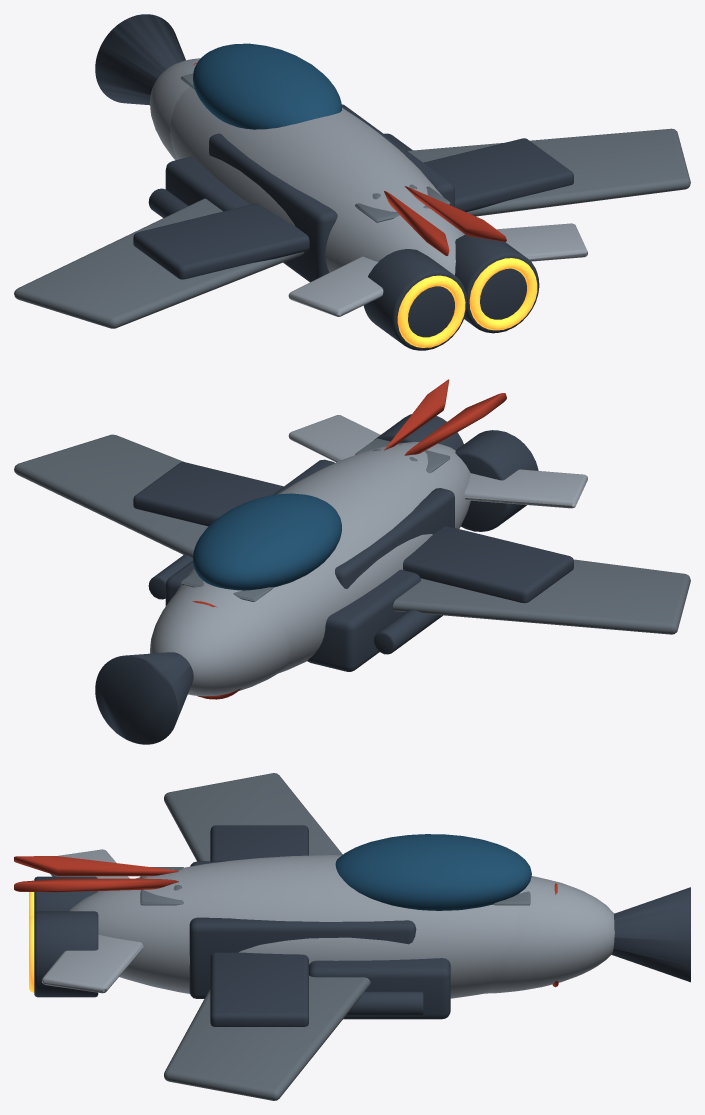
The model's file is enemy_bomber.glb.
3 renders of one model, top to bottom at view 1: azimuth 30°, elevation 25°; view 2: azimuth 150°, elevation 25°; view 3: azimuth 270°, elevation 25°, orthographic.
Visible parts, largest first — view 1: ASSET_enemy_bomber; view 2: ASSET_enemy_bomber; view 3: ASSET_enemy_bomber.
Boxes of the visible parts, bbox=[...] form: ASSET_enemy_bomber: bbox=[14, 14, 690, 350]; ASSET_enemy_bomber: bbox=[14, 379, 690, 744]; ASSET_enemy_bomber: bbox=[14, 773, 690, 1100].
Size of the model in its own units: 6.17 by 1.36 by 5.5.
